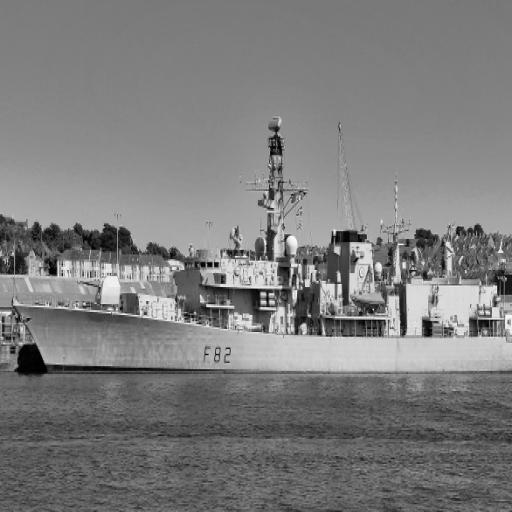Fragata: (9, 111, 512, 379)
